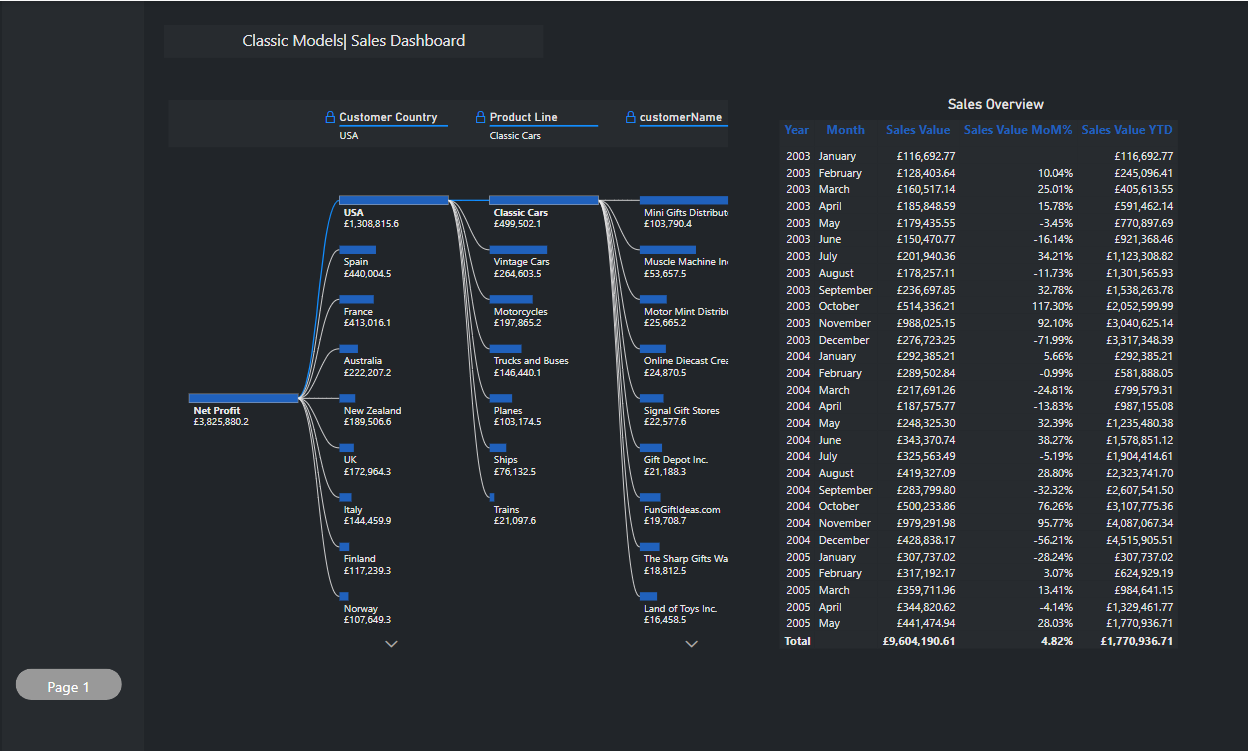

What the dashboard file says about the page in this screenshot:
{"tool":"powerbi","page":{"name":"Sales Overview Page 2","canvas":[1500,900],"ordinal":1},"visuals":[{"type":"shape","box":[4,0,170,900],"z":0},{"type":"decompositionTreeVisual","fields":{"Analyze":["classicmodels sale_data_for_powebi.Net Profit"],"ExplainBy":["classicmodels sale_data_for_powebi.customer_country","classicmodels sale_data_for_powebi.productLine","classicmodels sale_data_for_powebi.customerName"]},"box":[197.7,113.3,681.3,702.9],"z":1000},{"type":"textbox","box":[197.7,28.8,454.8,39.5],"z":2000},{"type":"tableEx","title":"Sales Overview","fields":{"Values":["classicmodels sale_data_for_powebi.orderDate.Variation.Date Hierarchy.Year","classicmodels sale_data_for_powebi.orderDate.Variation.Date Hierarchy.Month","Sum(classicmodels sale_data_for_powebi.sales_value)","classicmodels sale_data_for_powebi.sales_value MoM%","classicmodels sale_data_for_powebi.sales_value YTD"]},"box":[929.4,113.3,530.3,670.5],"z":3000},{"type":"actionButton","title":"sales","box":[19.8,800,127.6,37.8],"z":4000}]}

Visuals, with their boxes on the page's 1500x900 design canvas (x1, y1, x2, y2). These are canvas units, not pixel positions in the 1248x751 screenshot, which may show the page scaled, cropped or inside an application window:
shape: (4, 0, 174, 900)
decompositionTreeVisual - classicmodels sale_data_for_powebi.Net Profit x classicmodels sale_data_for_powebi.customer_country: (198, 113, 879, 816)
textbox: (198, 29, 652, 68)
"Sales Overview" tableEx: (929, 113, 1460, 784)
"sales" actionButton: (20, 800, 147, 838)
